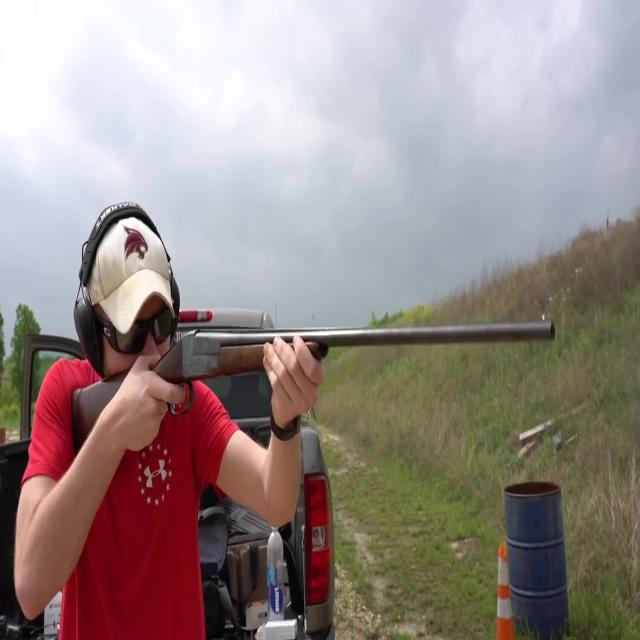Weapon: (49, 295, 566, 457)
